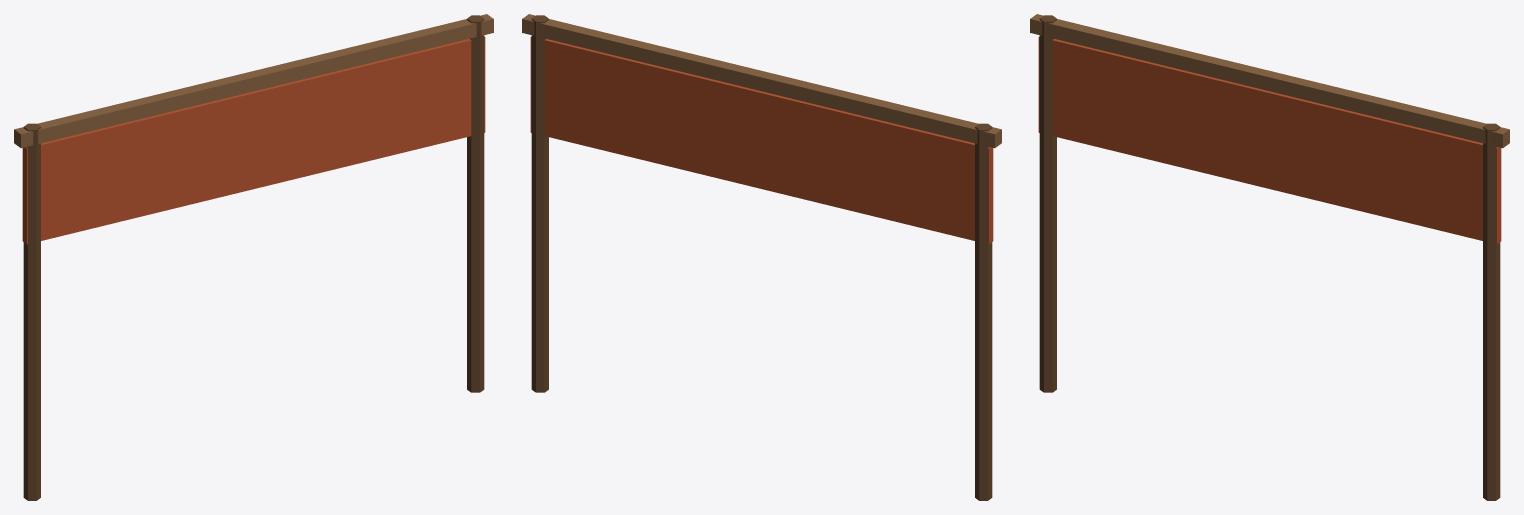
File: cartel.glb
3 views of the same model, side by side, from view 1: azimuth 30°, elevation 25°; view 2: azimuth 150°, elevation 25°; view 3: azimuth 330°, elevation 25° (orthographic).
Visible parts, largest first — view 1: Cartel.001; view 2: Cartel.001; view 3: Cartel.001.
Boxes of the visible parts, left/top/right/bottom form: Cartel.001: left=14, top=14, right=493, bottom=500; Cartel.001: left=522, top=14, right=1001, bottom=500; Cartel.001: left=1030, top=14, right=1509, bottom=500.
Size of the model in its own units: 3.2 by 2.4 by 0.1.
